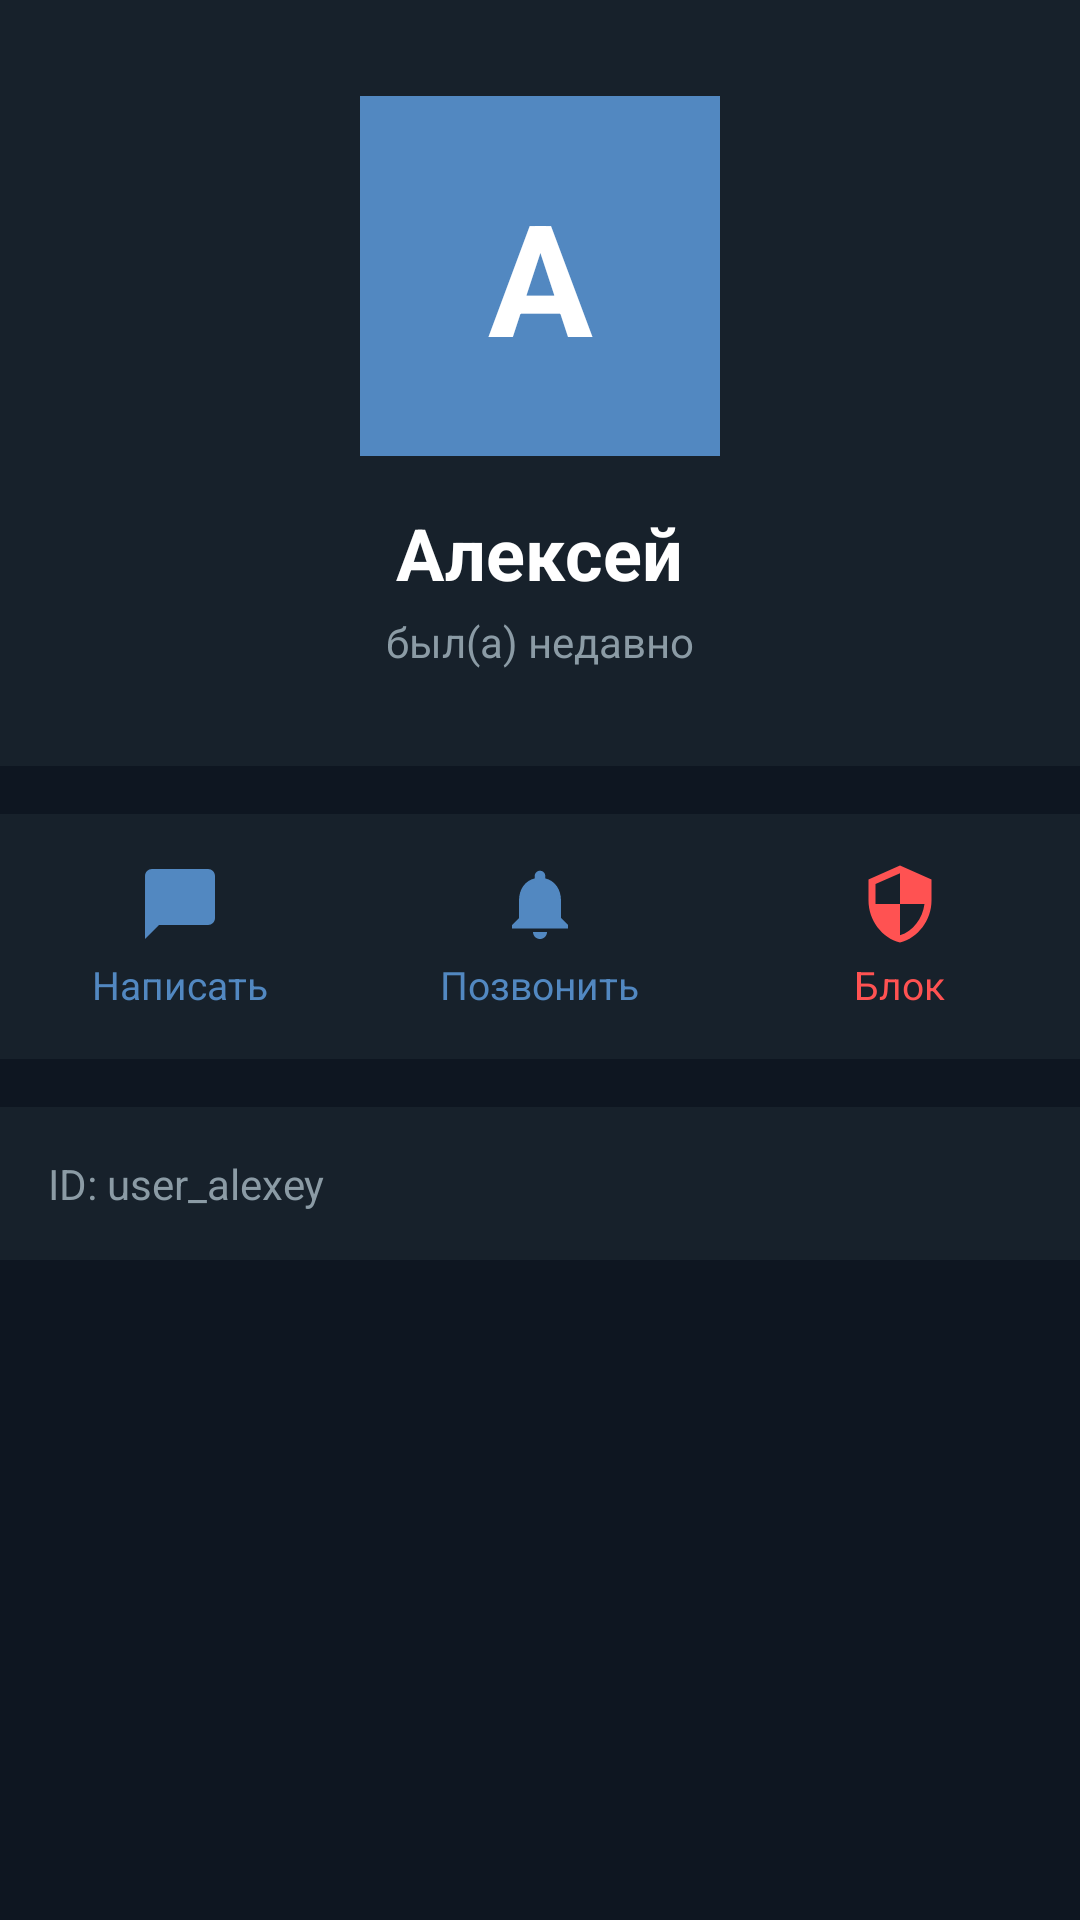

Point at icon controls on the screen. Image size 1080×1920, points as (x,y).
chat: (180,904)
notifications: (540,904)
security: (900,904)
